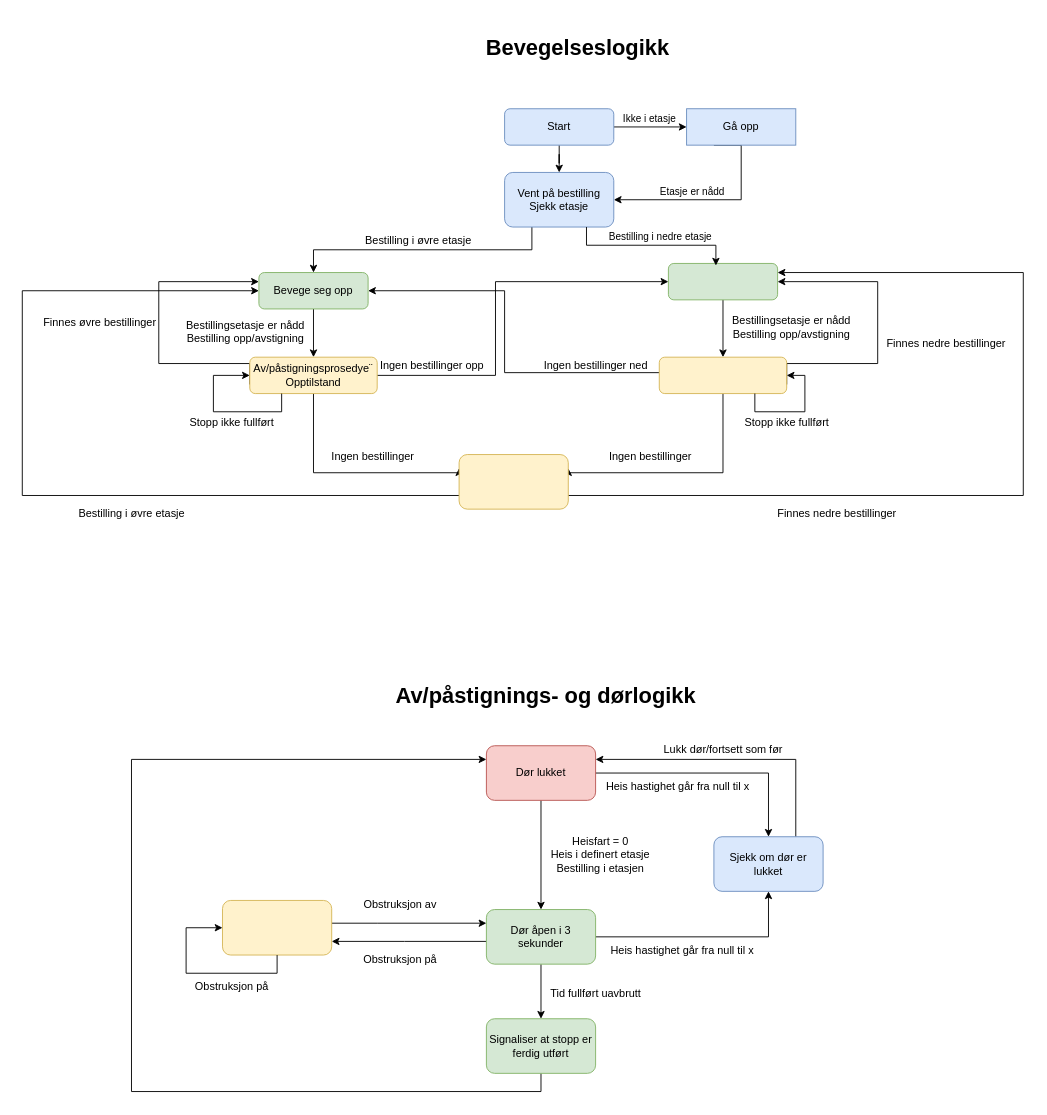
The diagram is 1047 pixels wide and 1115 high, and some of its shapes have lost their labels. The shapes that lost their labels are listed below. From the top down, each one's centre as x and y in pixels, then its label:
(x=722, y=281): Bevege seg ned
(x=722, y=375): Av/påstigningsprosedye¨ Nedtilstand
(x=513, y=481): Vent på bestilling
(x=277, y=927): Obstruert Dør åpen
